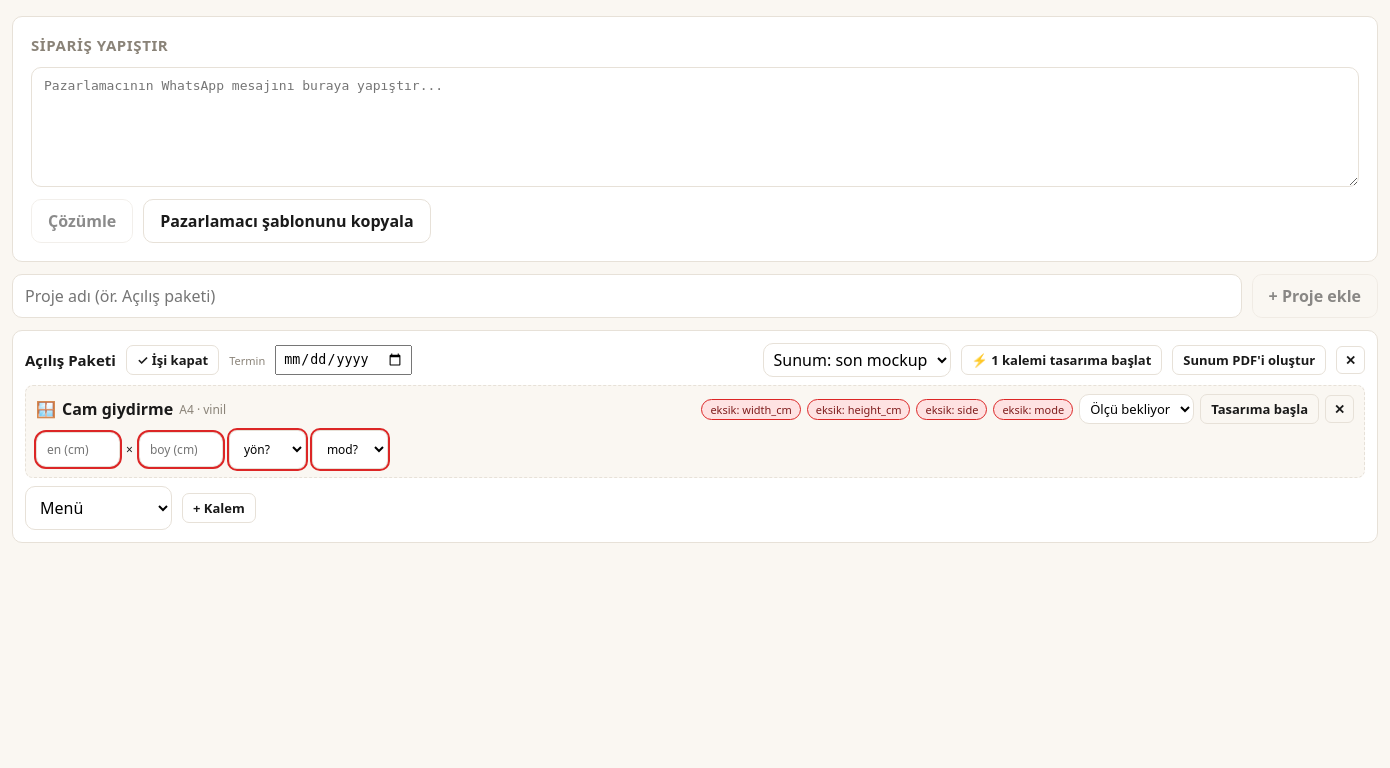
toplu başlatma sonucu › DÜŞEN KALEMİN GEREKÇESİ panelde ADIYLA görünür
Click the button "⚡ 1 kalemi tasarıma başlat".
click(1062, 360)  # box [961,345,1162,375]
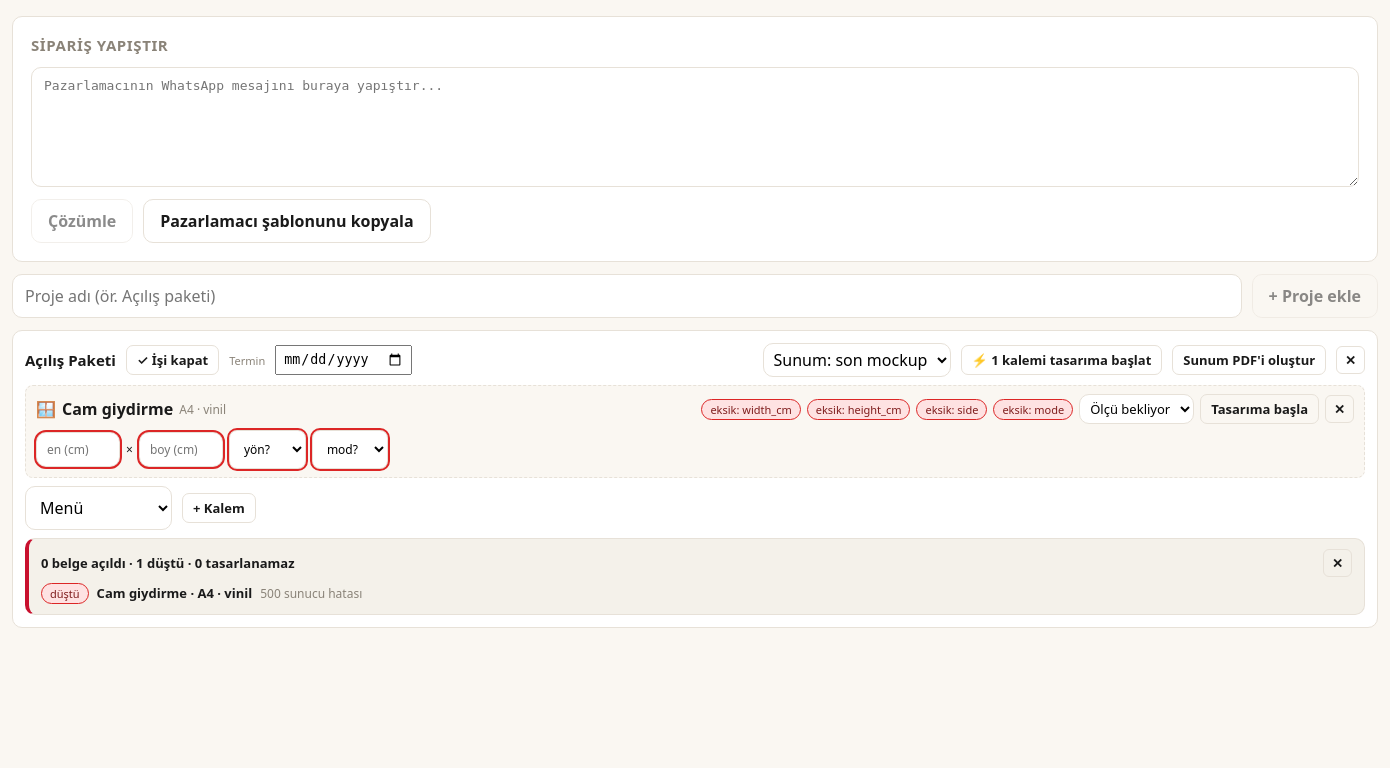
Expected: the element with class "tur-sonucu" shows "500 sunucu hatası", [260,585,362,602]
Expected: the number of elements with class "tur-sonucu-satir" is 1, [41,583,362,604]
